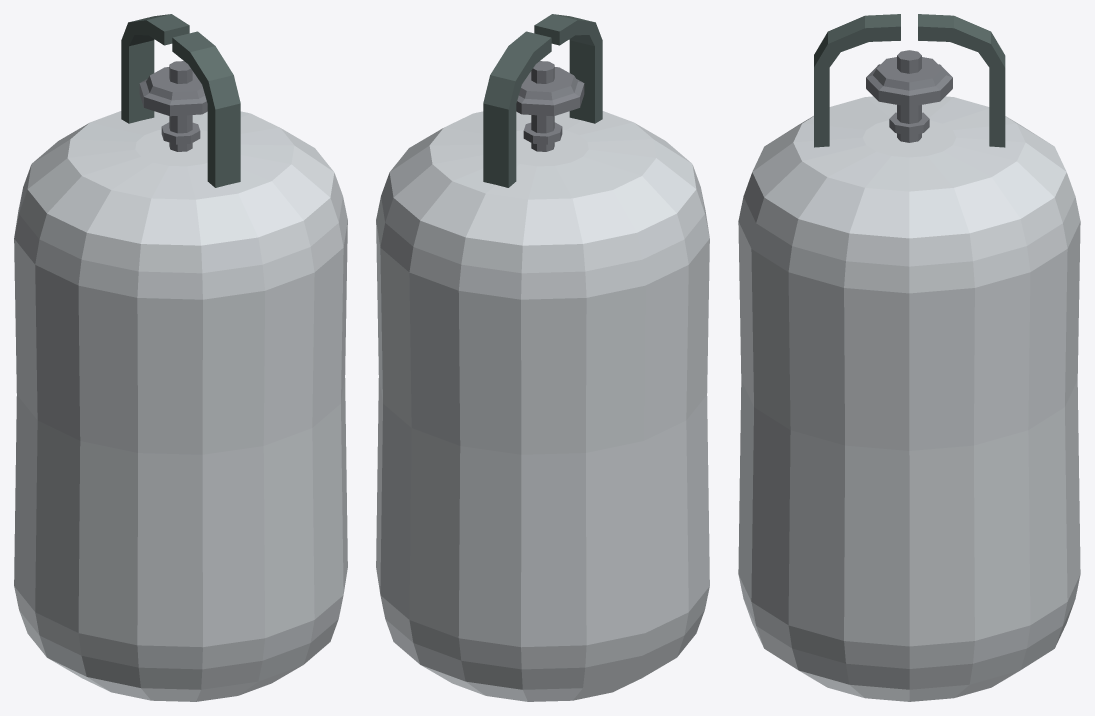
File: SM_gasoline_container.fbx
3 views of the same model, side by side, from view 1: azimuth 30°, elevation 25°; view 2: azimuth 150°, elevation 25°; view 3: azimuth 270°, elevation 25° (orthographic).
Parts seen in each view (by area): view 1: gasoline_container; view 2: gasoline_container; view 3: gasoline_container.
Boxes of the visible parts, x1=… form: gasoline_container: x1=14, y1=14, x2=347, y2=701; gasoline_container: x1=376, y1=14, x2=709, y2=701; gasoline_container: x1=738, y1=14, x2=1080, y2=701.
Size of the model in its own units: 69.12 by 142 by 69.12.
